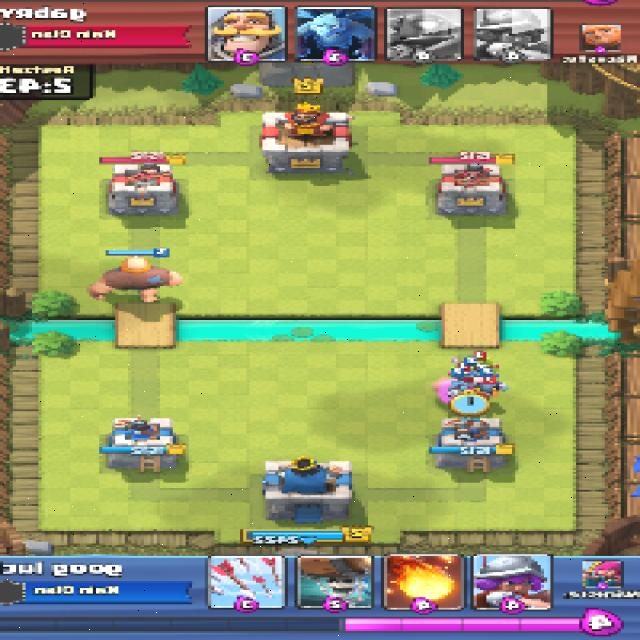Player-Giant: (89, 256, 182, 304)
Player-Minion: (448, 376, 478, 394), (479, 377, 508, 394)
